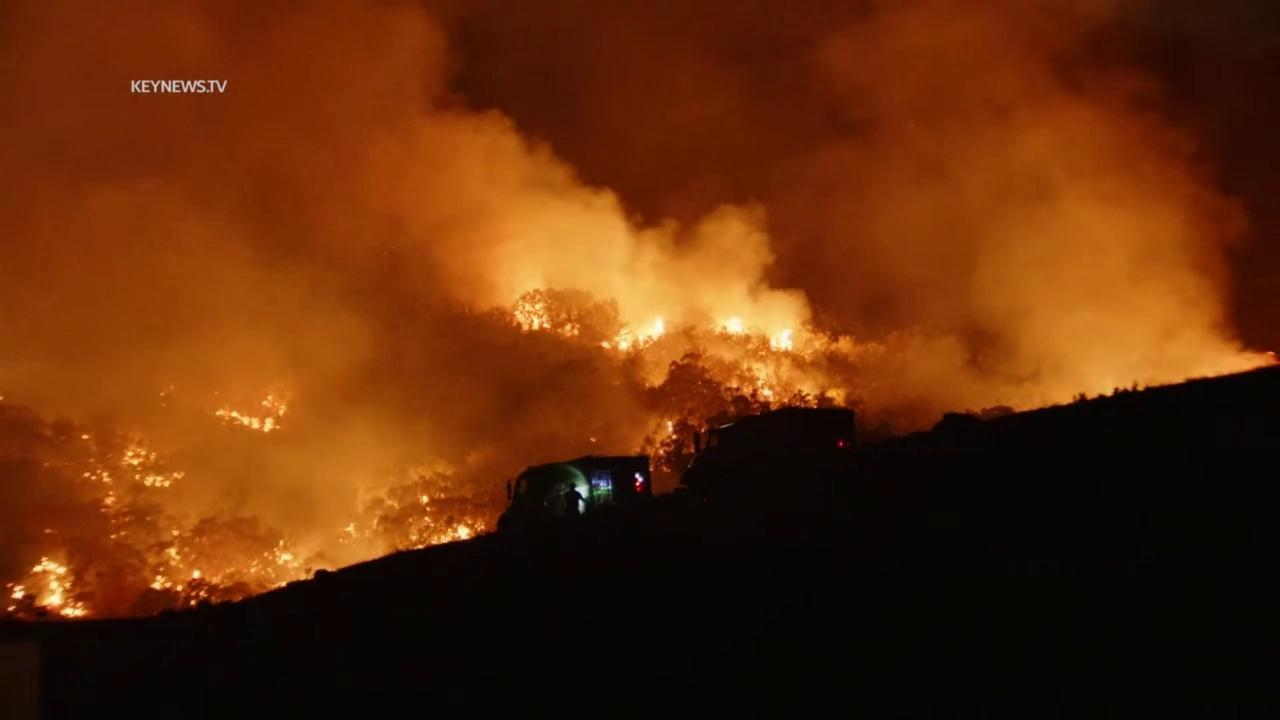fire: (5, 554, 92, 619), (212, 394, 289, 434), (120, 443, 186, 488), (407, 513, 485, 551), (247, 538, 300, 590), (513, 299, 580, 336), (599, 319, 665, 350), (710, 315, 746, 337), (767, 327, 794, 354), (148, 574, 184, 594), (162, 544, 185, 569), (82, 468, 115, 484), (99, 487, 118, 513), (665, 420, 679, 440), (342, 522, 360, 537), (760, 387, 777, 401), (190, 566, 203, 581), (198, 585, 210, 601), (167, 525, 182, 537), (420, 493, 431, 505), (189, 598, 196, 608), (189, 590, 198, 597)
smoke: (0, 0, 1280, 627)
